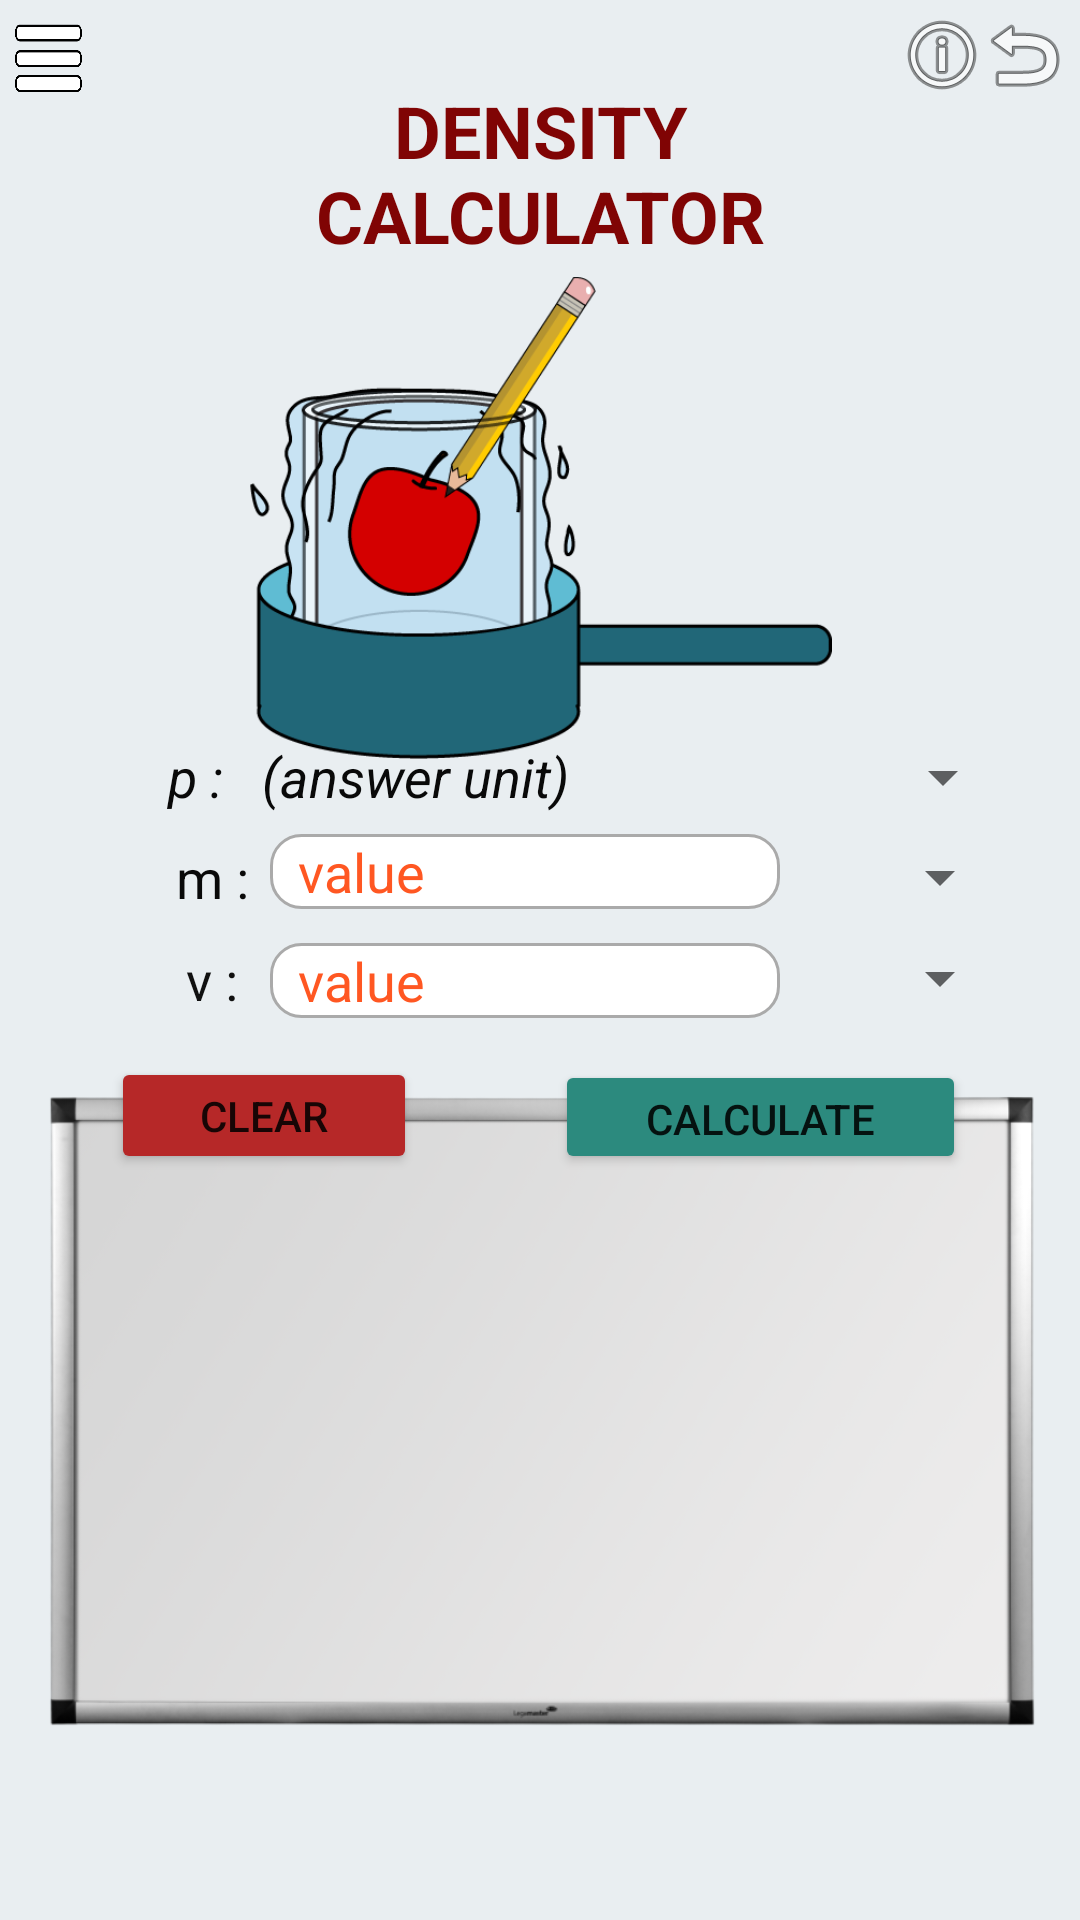

Named icons in this screenshot (1080*1920) and their centers, (x=x, y=y):
info details: (x=942, y=55)
menu: (x=48, y=58)
revert: (x=1025, y=55)
